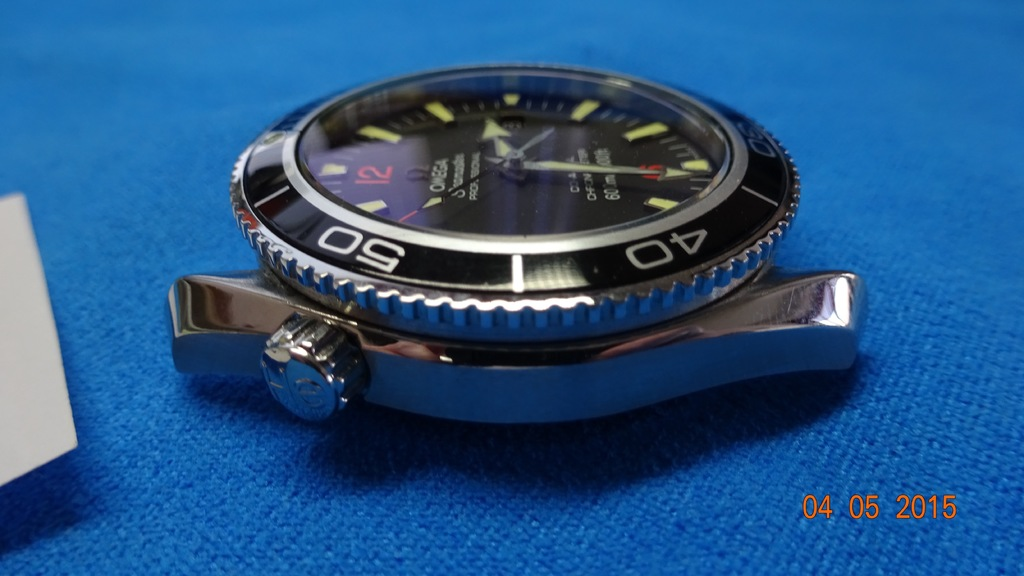watch: (160, 61, 868, 419)
